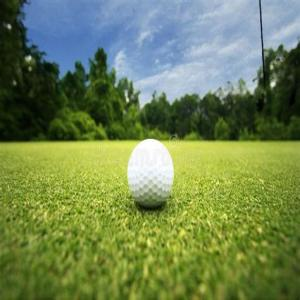Golf: (127, 137, 174, 210)
